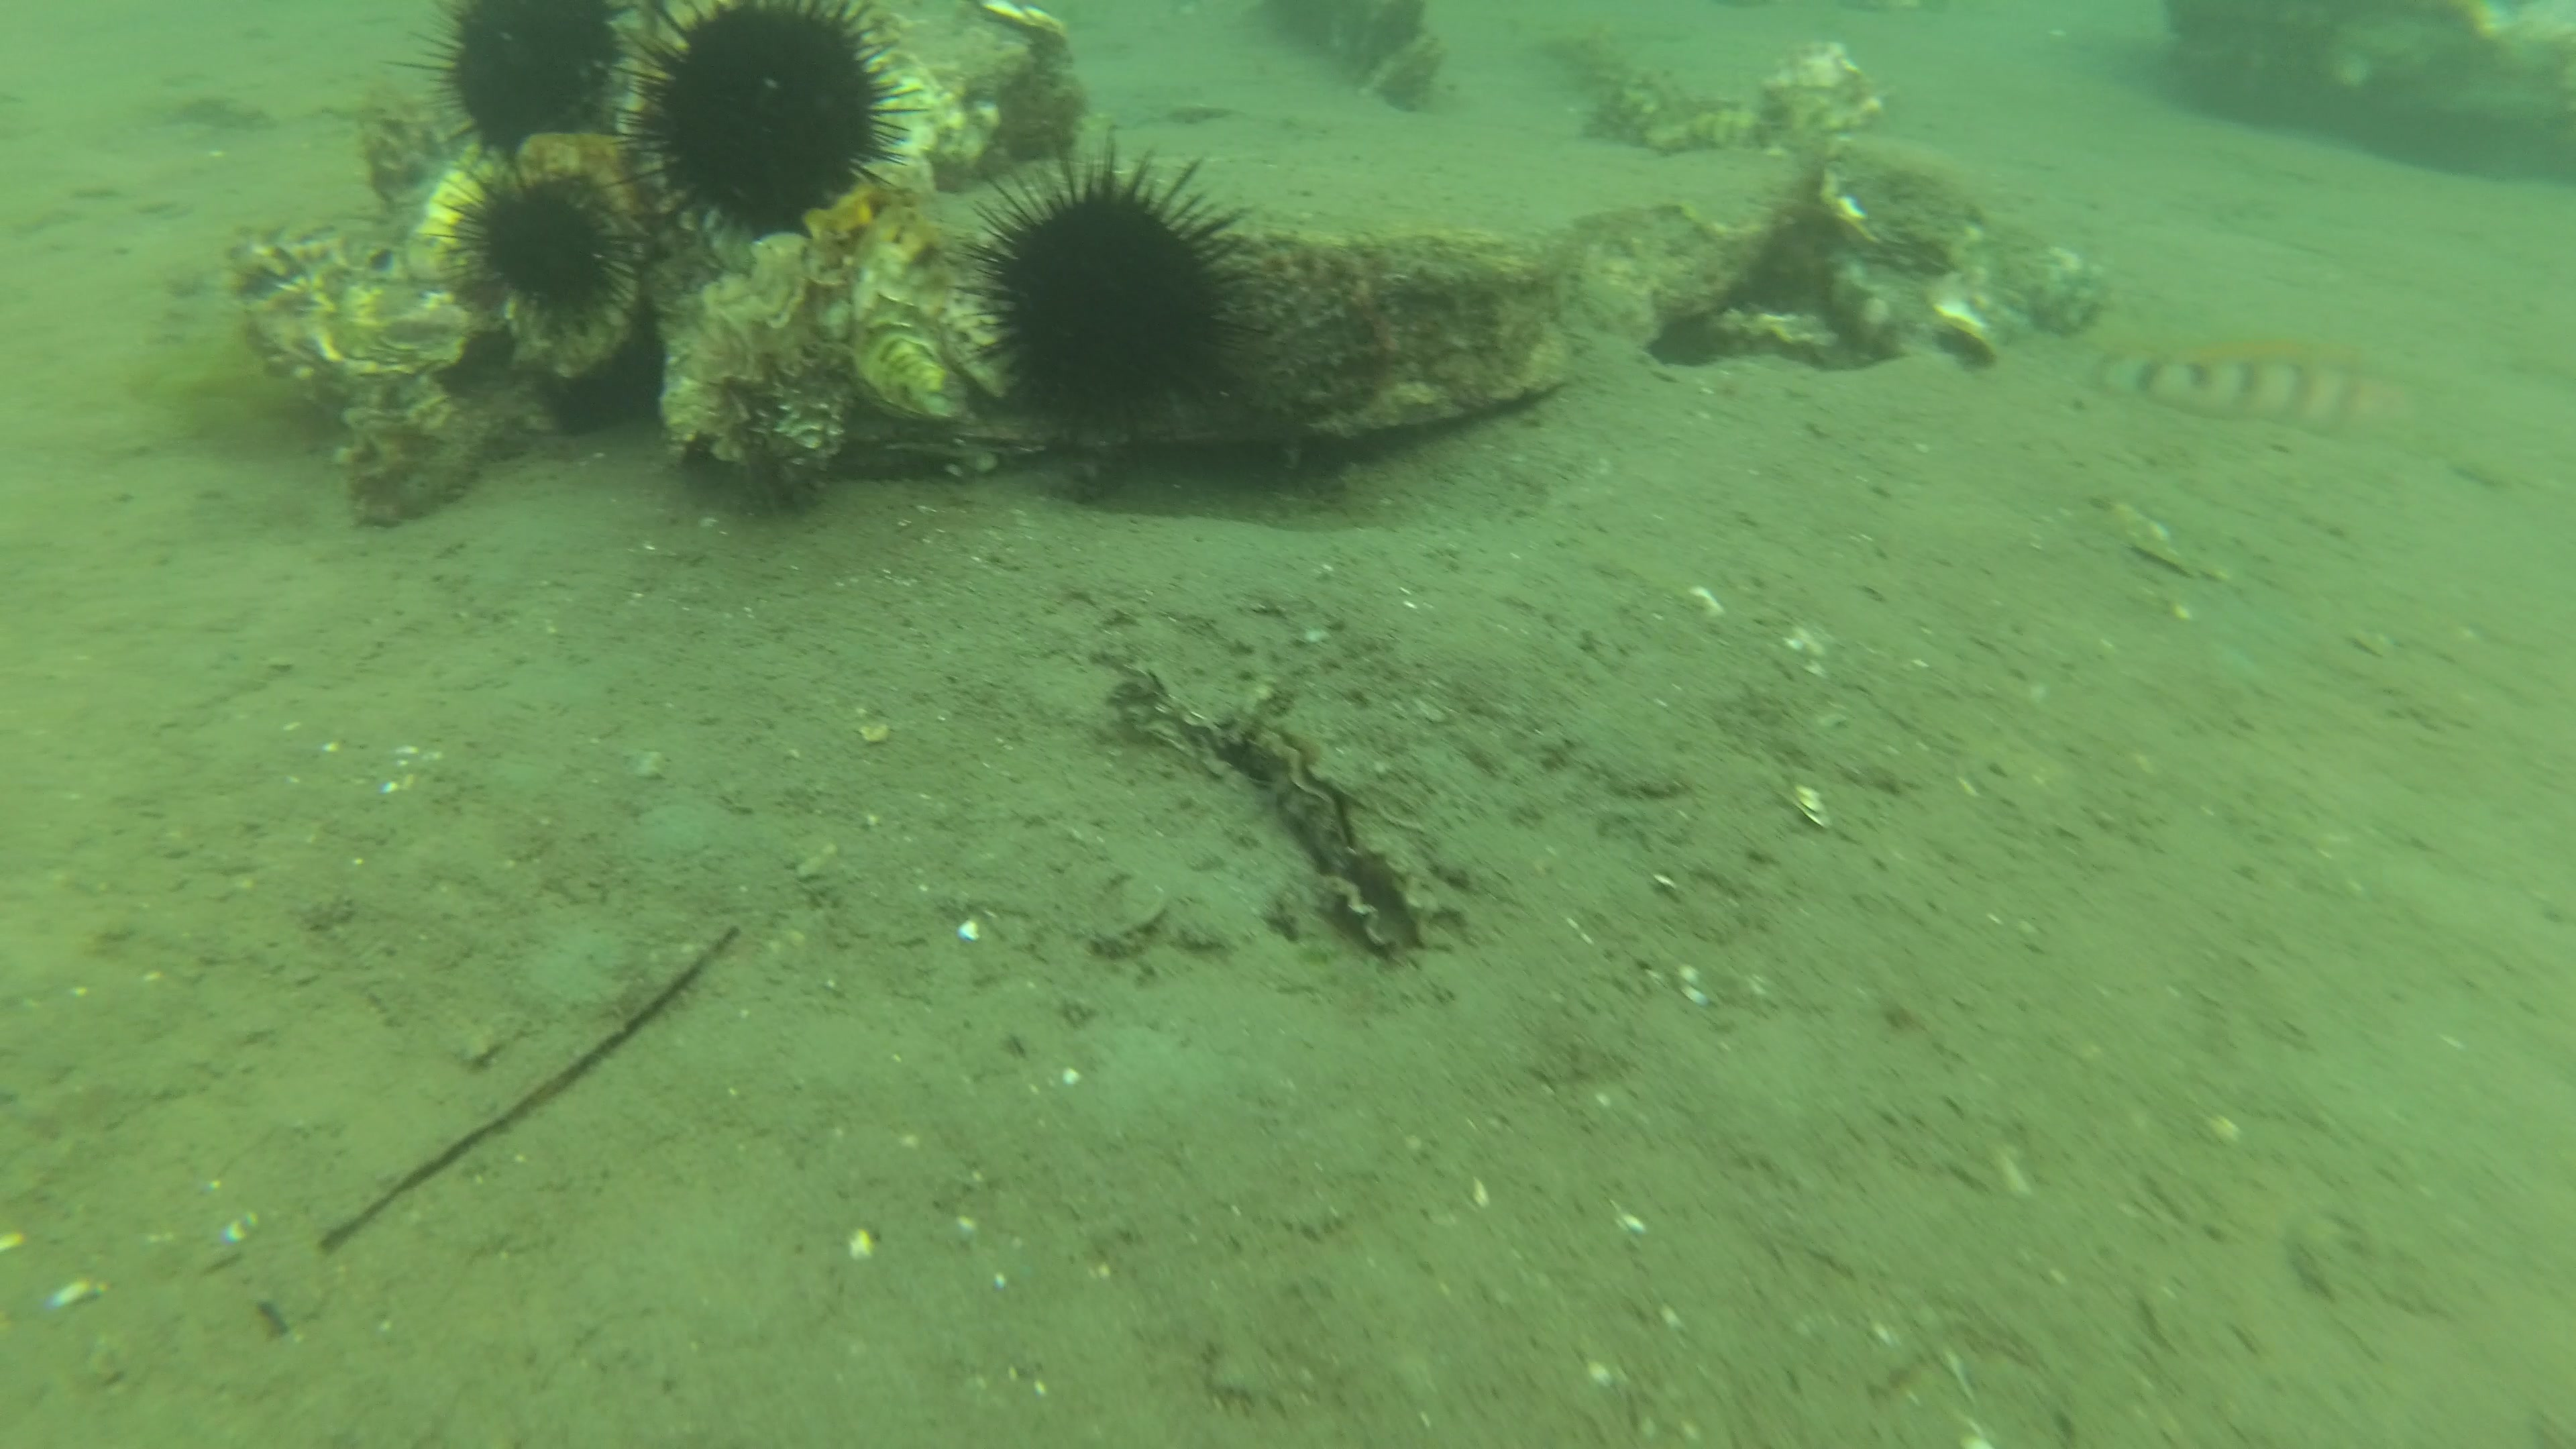echinus: (970, 142, 1263, 449), (612, 0, 922, 226), (391, 0, 632, 166), (444, 175, 653, 338)
